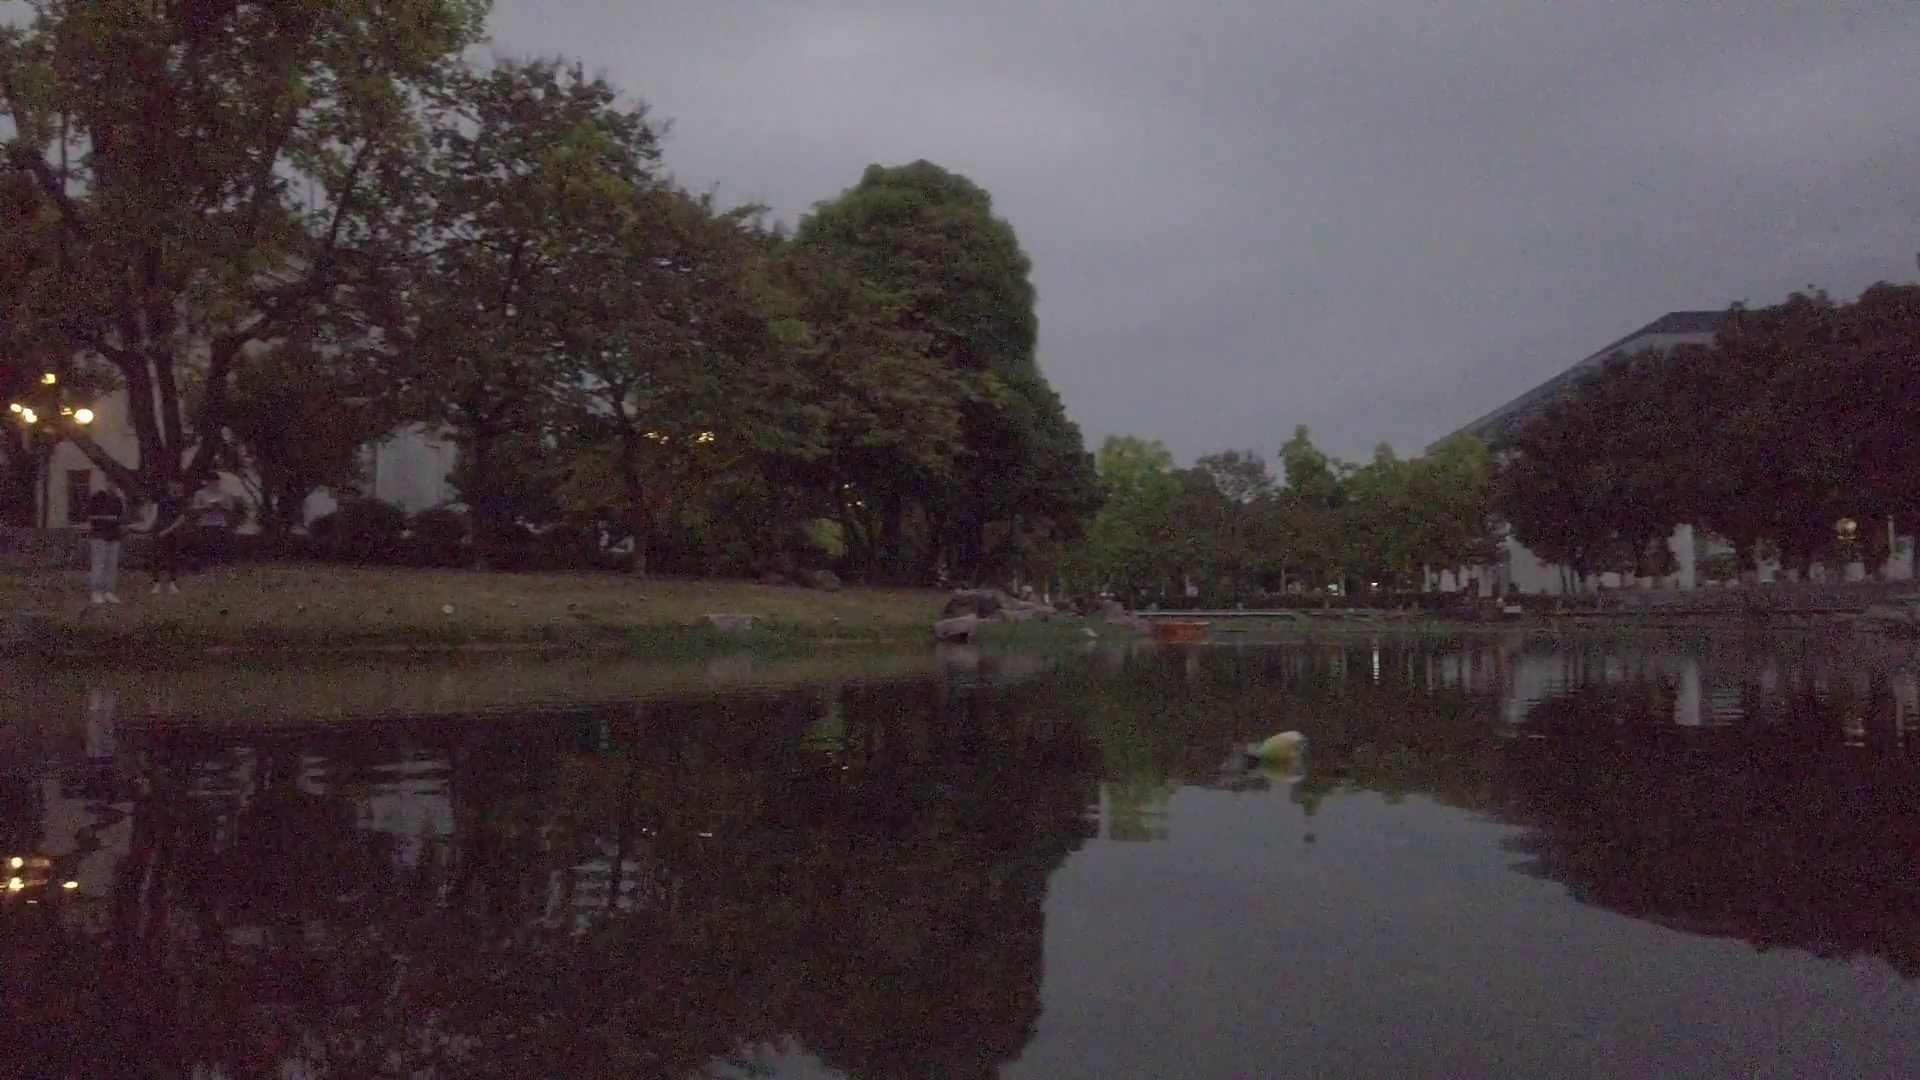bottle: (1240, 731, 1305, 762)
